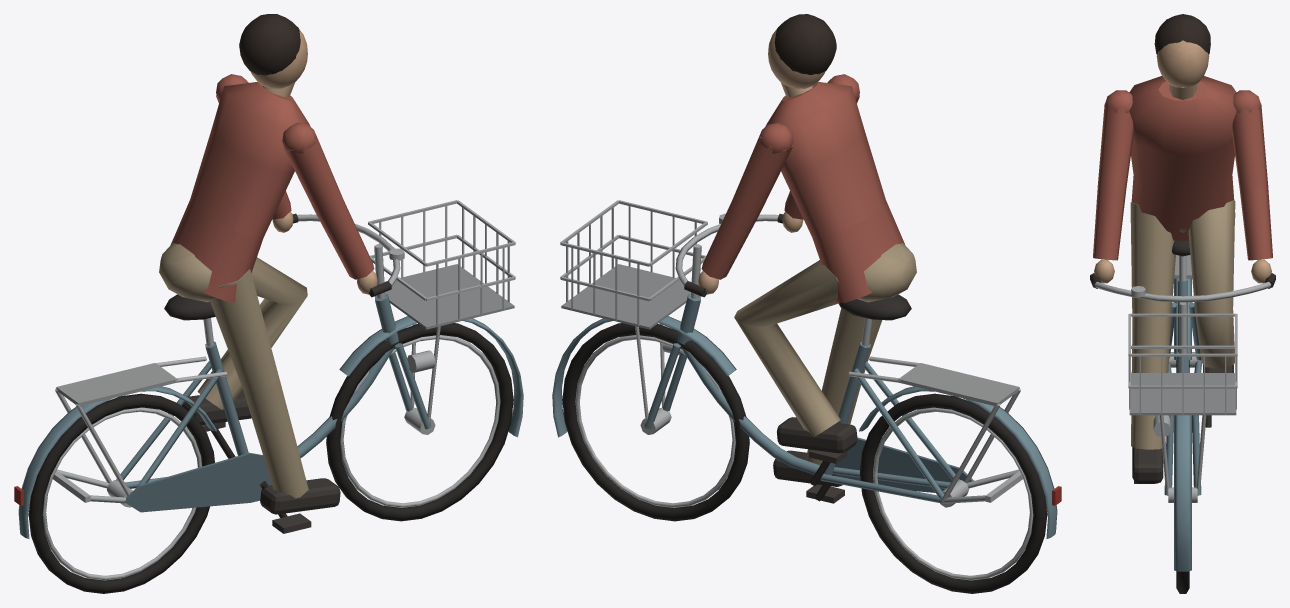
Rendered from people_cyclist_01.glb.
3 renders of one model, left to right at view 1: azimuth 30°, elevation 25°; view 2: azimuth 150°, elevation 25°; view 3: azimuth 270°, elevation 25°, orthographic. The views are drawn at different scales.
Parts seen in each view (by area): view 1: people_cyclist_01; view 2: people_cyclist_01; view 3: people_cyclist_01.
Part boxes in pixels (x1=…): people_cyclist_01: x1=14, y1=14, x2=523, y2=593; people_cyclist_01: x1=552, y1=14, x2=1061, y2=593; people_cyclist_01: x1=1090, y1=14, x2=1275, y2=593.
Bounding box in the file's own units: 1.83 × 1.86 × 0.6276.
